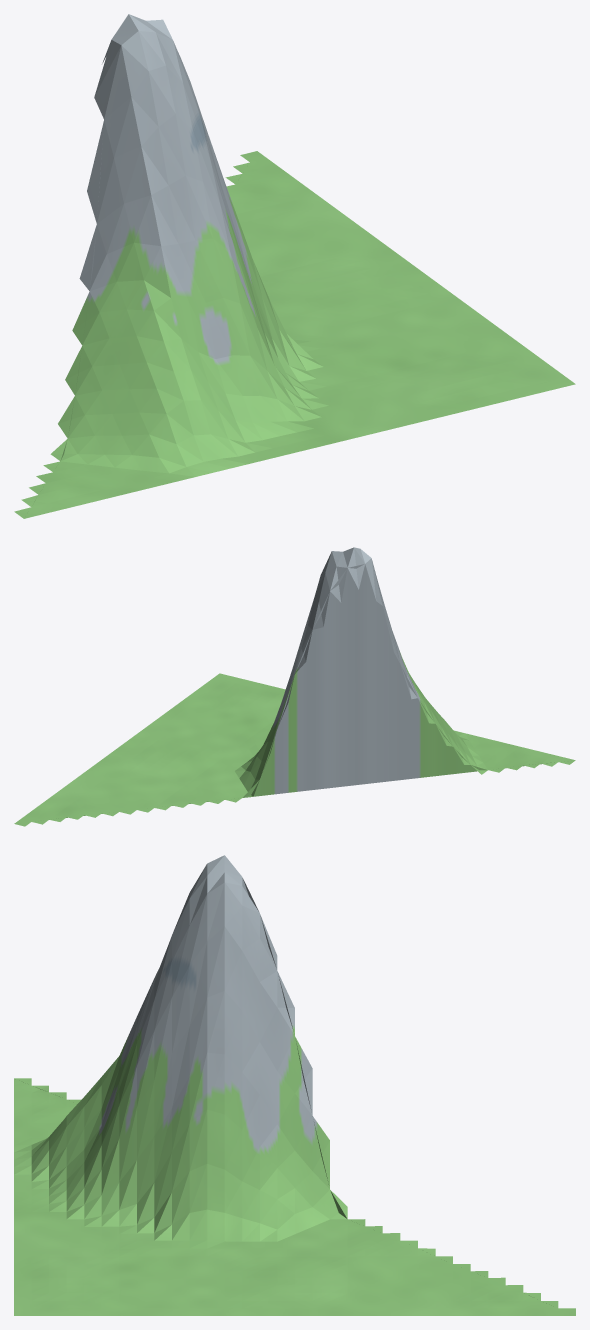
The model's file is Grass_RockyMountains_10_NE.obj.
3 views of the same model, one above another, from view 1: azimuth 30°, elevation 25°; view 2: azimuth 150°, elevation 25°; view 3: azimuth 270°, elevation 25° (orthographic). The views are drawn at different scales.
Size of the model in its own units: 10 by 6.28 by 10.
Materials: 1 (1 with a texture image).
